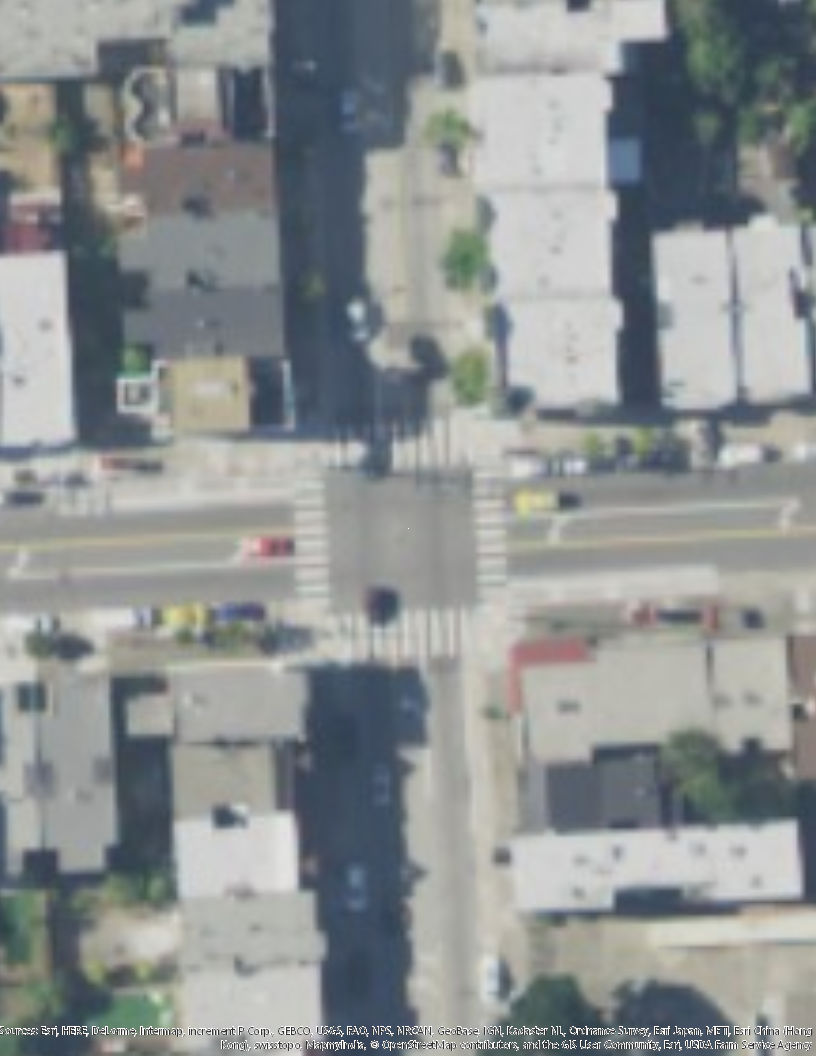zebracross: (331, 419, 469, 474), (338, 609, 468, 666), (291, 479, 330, 608), (472, 472, 508, 596)
